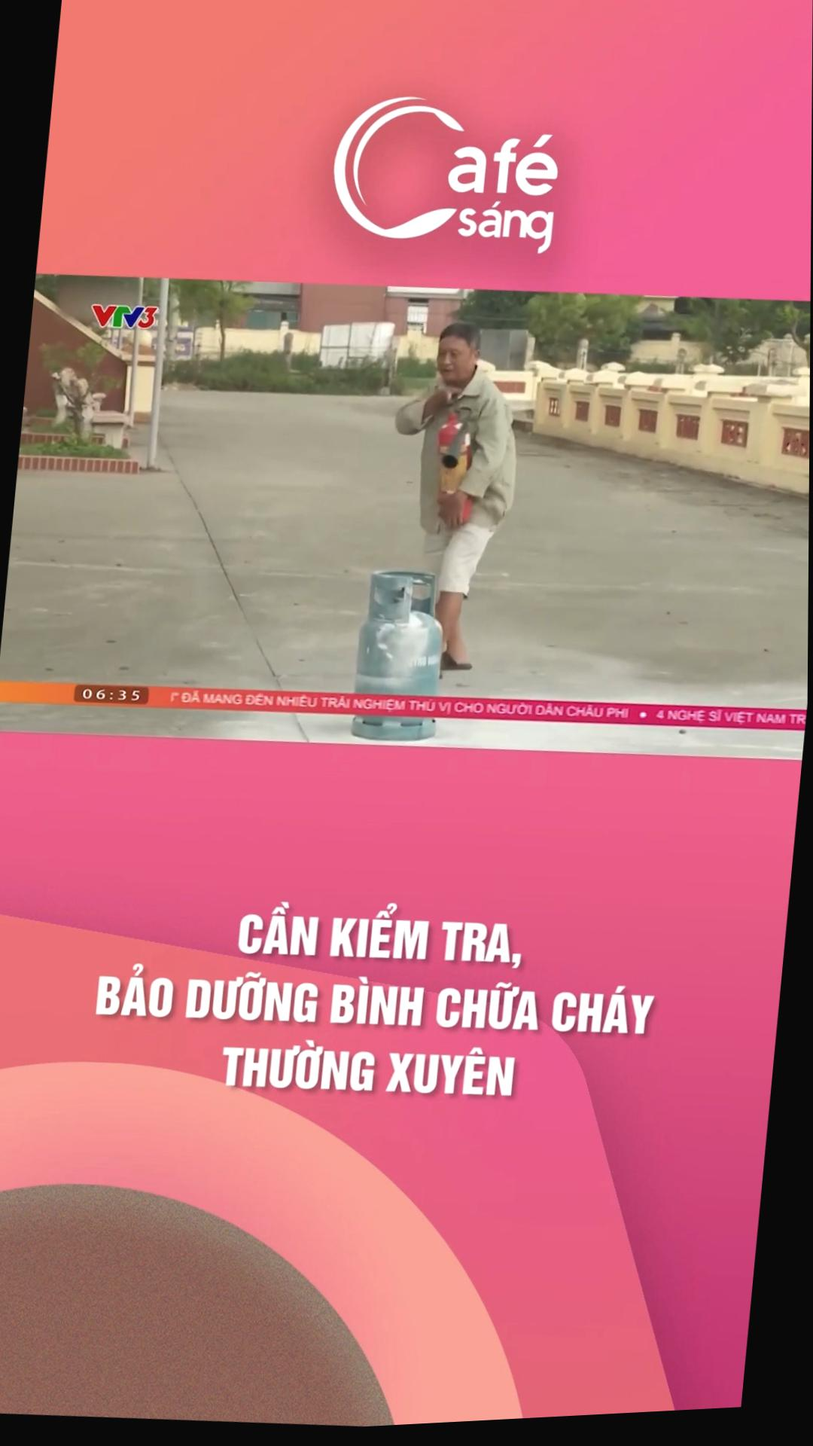FireExtinguisher: (411, 406, 492, 543)
not: (21, 272, 190, 448), (572, 389, 811, 487), (350, 569, 457, 752), (297, 272, 469, 359)
